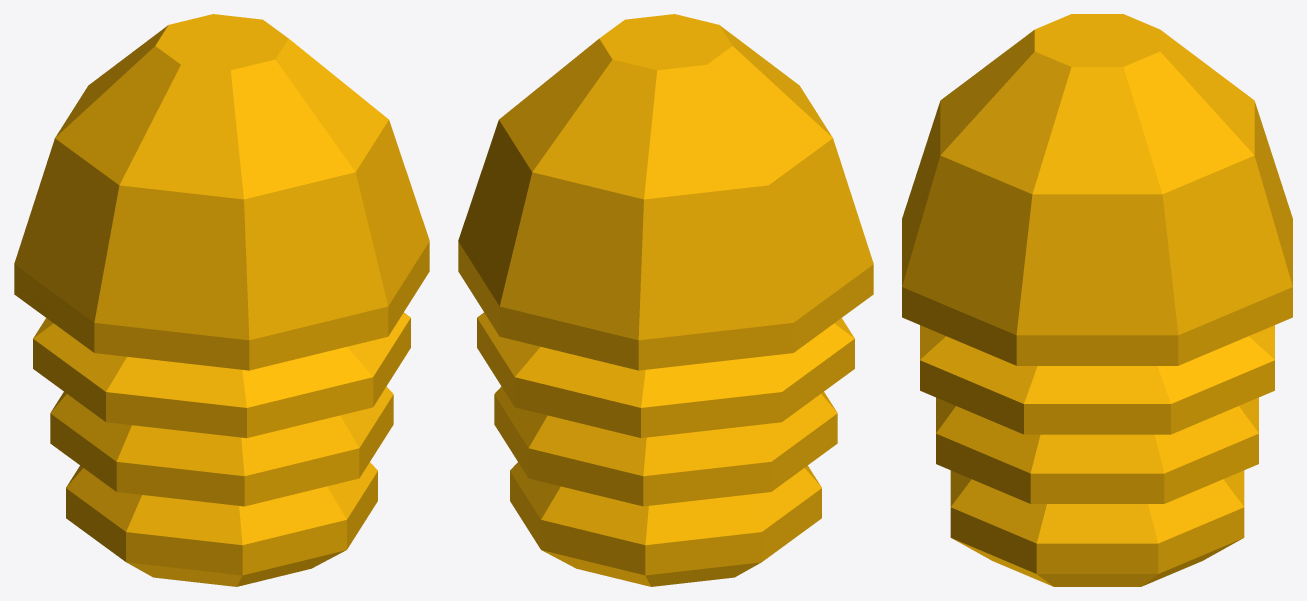
The model's file is mpe_torque_connector_offset.dae.
The picture shows the model from 3 angles, left to right: view 1: azimuth 30°, elevation 25°; view 2: azimuth 150°, elevation 25°; view 3: azimuth 270°, elevation 25°; orthographic projection.
Visible parts, largest first — view 1: torque_connector; view 2: torque_connector; view 3: torque_connector.
Part boxes in pixels (x1,y1,x2,y2): torque_connector: (14, 14, 429, 586); torque_connector: (458, 14, 873, 586); torque_connector: (902, 14, 1292, 586).
Bounding box in the file's own units: 0.2323 × 0.2323 × 0.3292.
